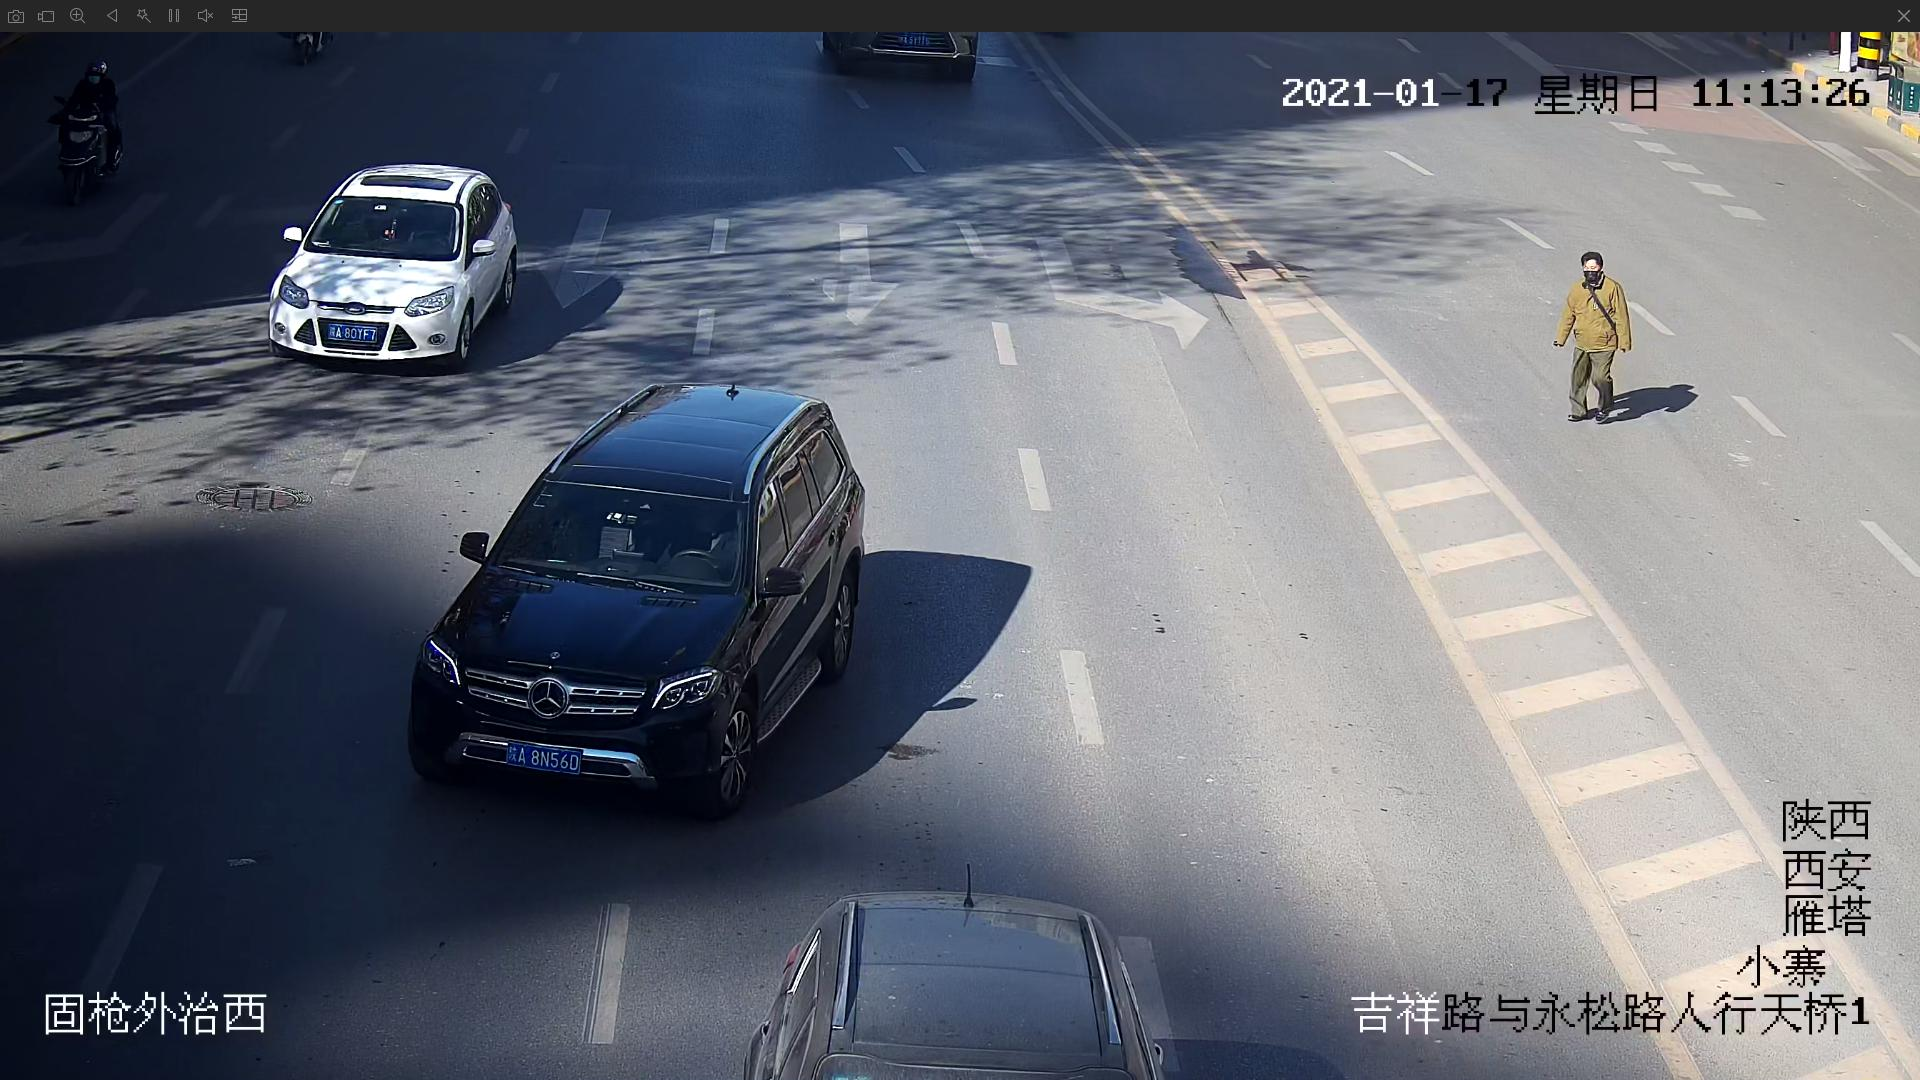black: (411, 389, 877, 806)
white: (264, 165, 520, 367)
